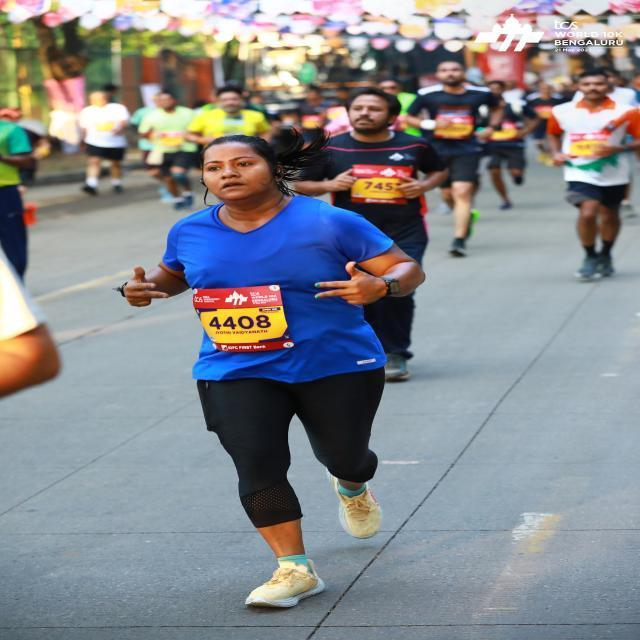dorsal: (194, 284, 296, 355)
